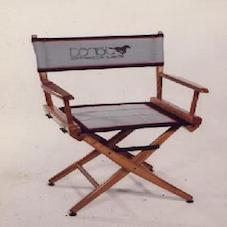chair: (9, 6, 211, 219)
